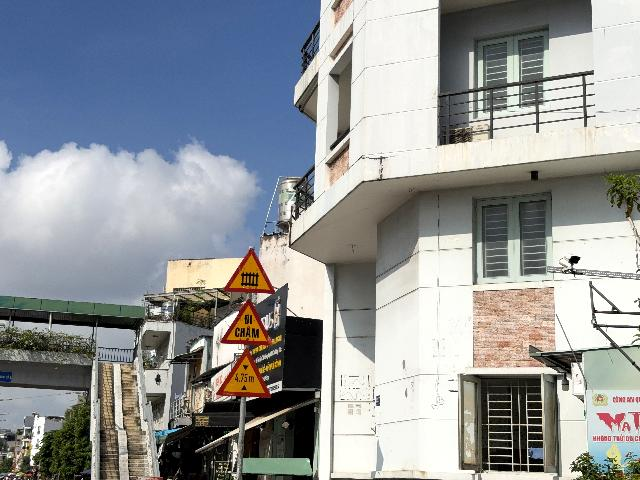chieu-cao-tinh-khong-thuc-te: (216, 348, 272, 398)
di-cham: (220, 299, 273, 346)
noi-giao-nhau-voi-duong-sat-co-rao-chan: (223, 247, 276, 294)
